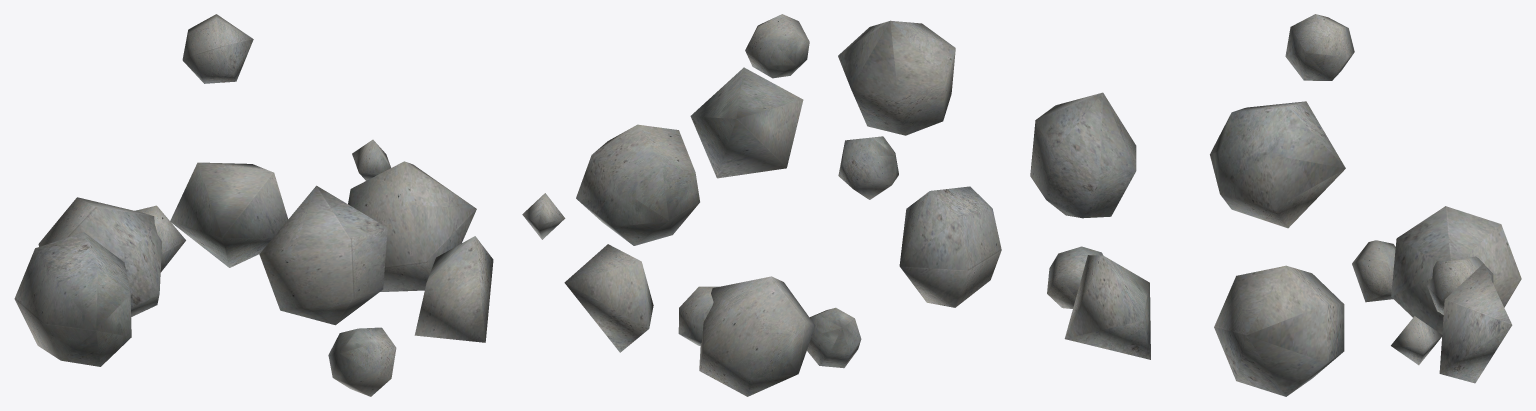
Rendered from stone_effect9.obj.
The picture shows the model from 3 angles, left to right: view 1: azimuth 30°, elevation 25°; view 2: azimuth 150°, elevation 25°; view 3: azimuth 270°, elevation 25°; orthographic projection. The views are drawn at different scales.
Parts seen in each view (by area): view 1: Sphere011; view 2: Sphere011; view 3: Sphere011.
Part boxes in pixels (bbox=[...]): Sphere011: bbox=[14, 14, 493, 396]; Sphere011: bbox=[522, 14, 1001, 396]; Sphere011: bbox=[1030, 14, 1521, 396].
Size of the model in its own units: 179 by 137 by 180.
Materials: 1 (1 with a texture image).
